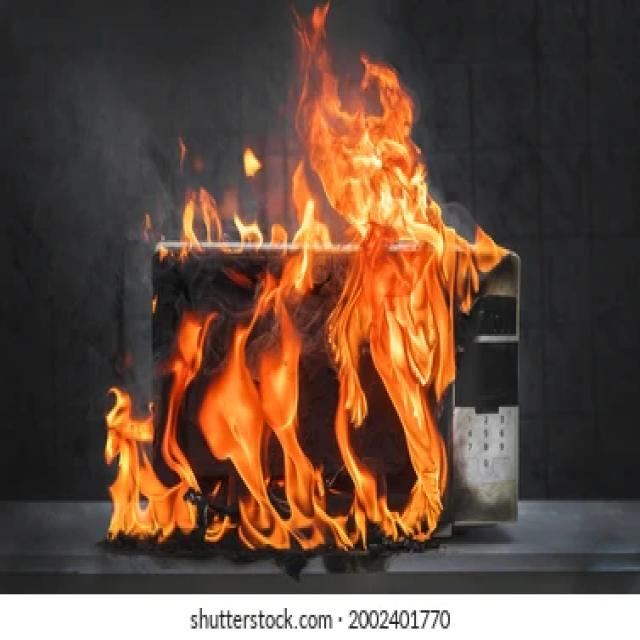fire: (146, 7, 470, 548)
